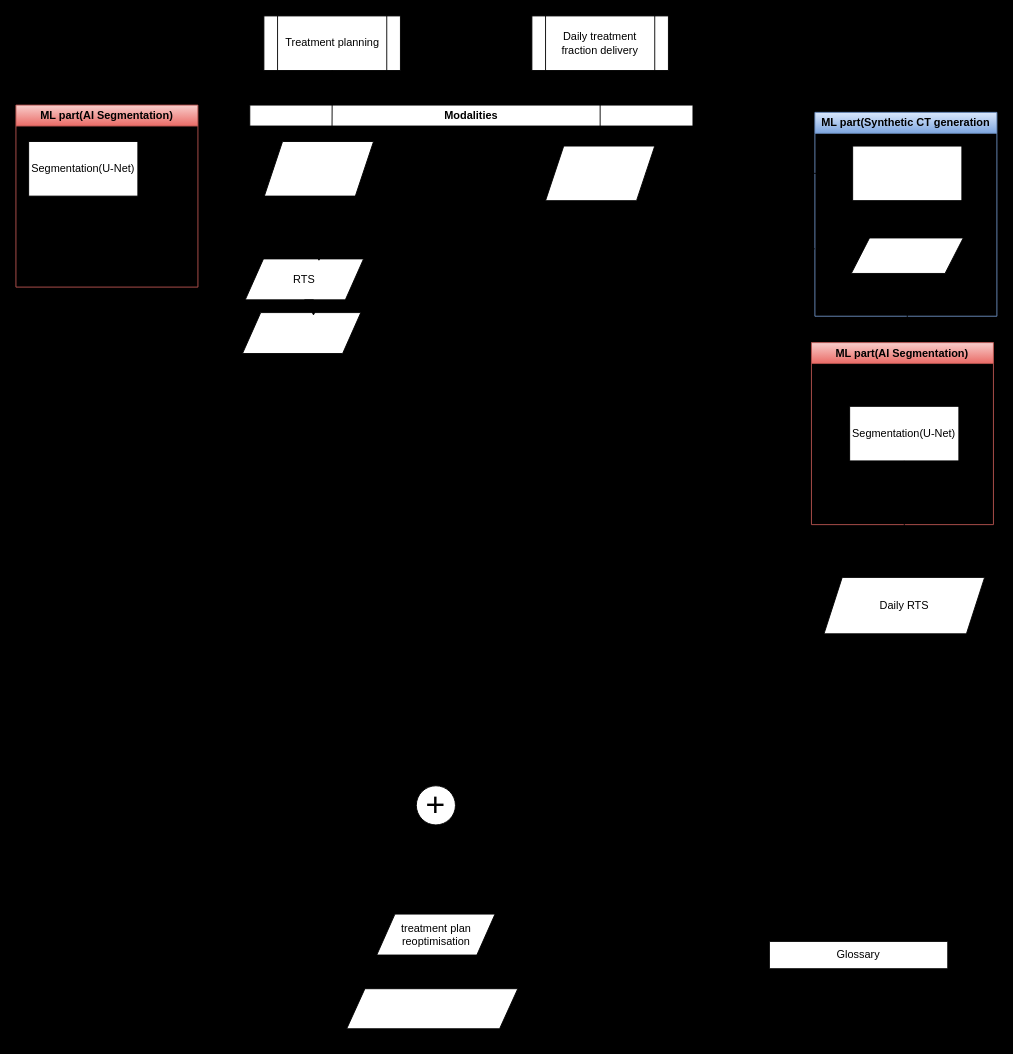
The diagram is 1013 pixels wide and 1054 high, and some of its shapes have lost their labels. Here are the shapes that lost their labels. From the top down, the centre of each, then its label:
At (x=318, y=168): "(planning) CT".
At (x=600, y=173): "CBCT".
At (x=907, y=173): "Generation of CT".
At (x=906, y=255): "sCT".
At (x=301, y=333): "Treatment plan".
At (x=432, y=1008): "Adapted treatment plan".
